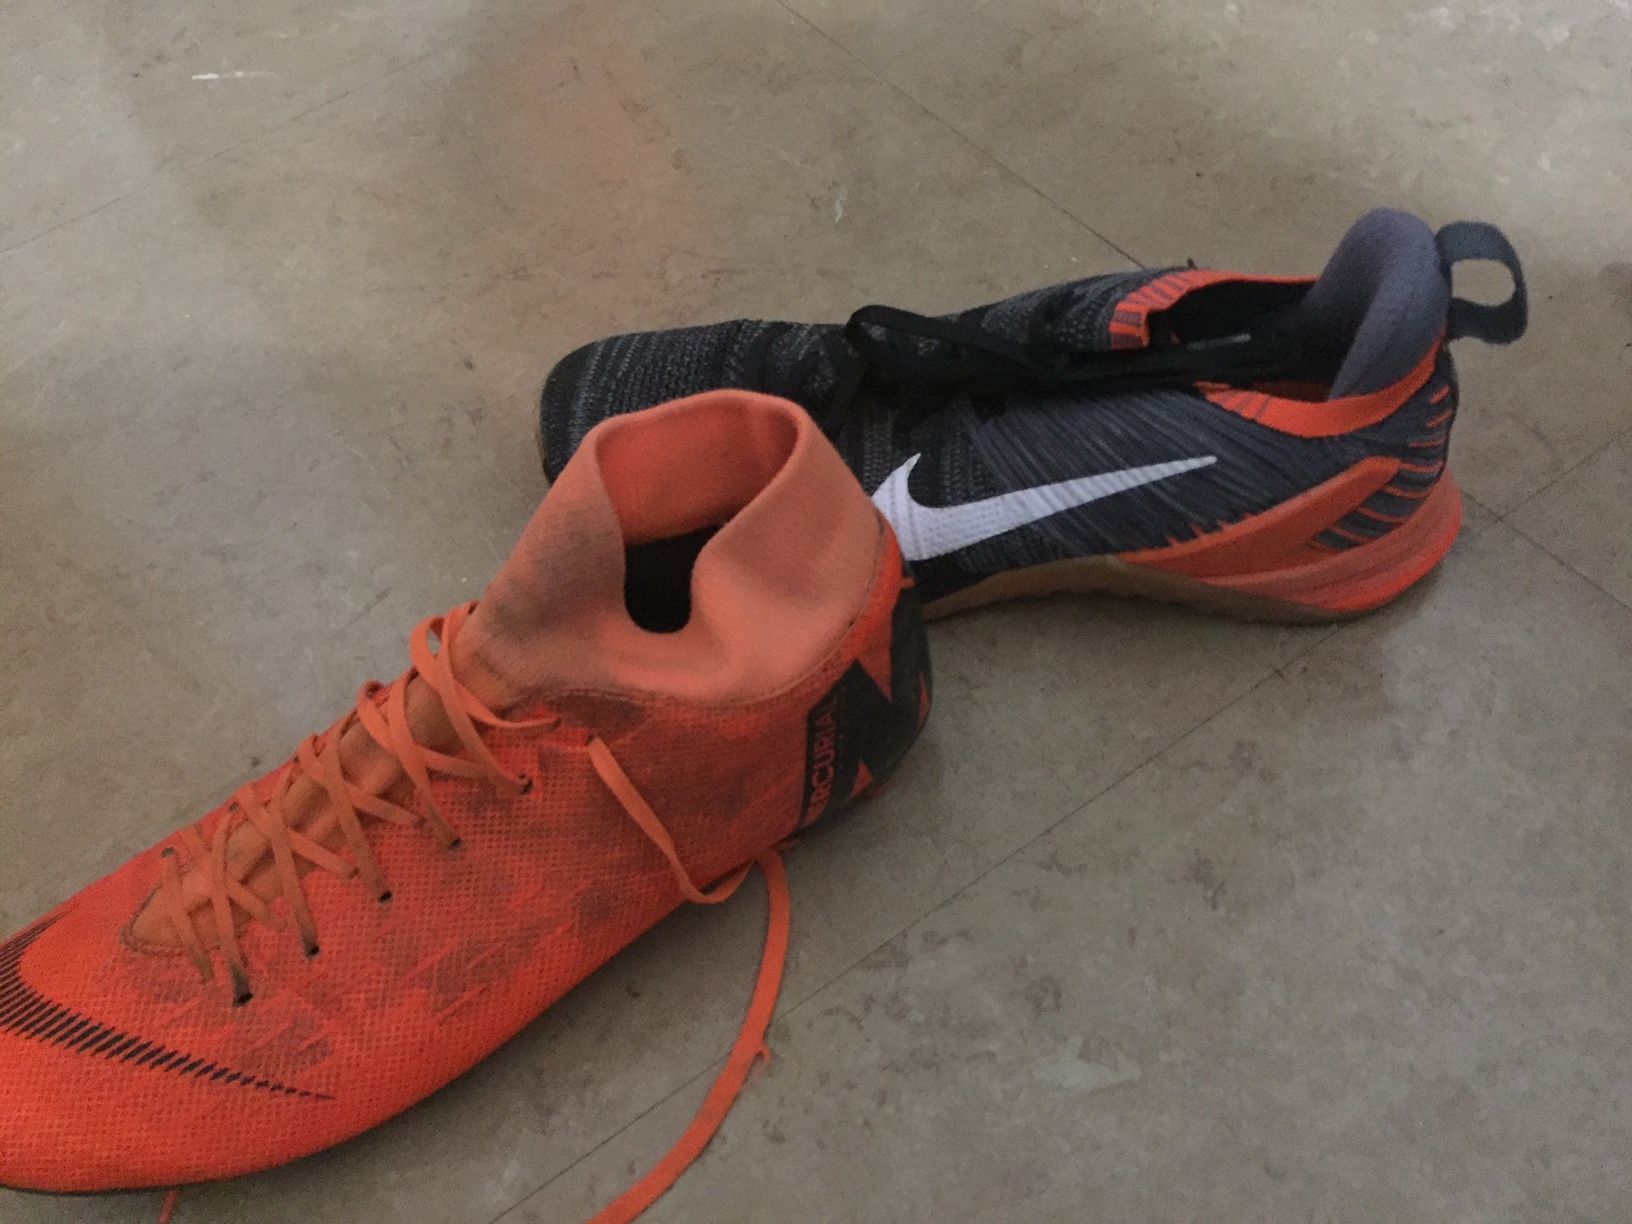car: (1, 390, 952, 1200)
